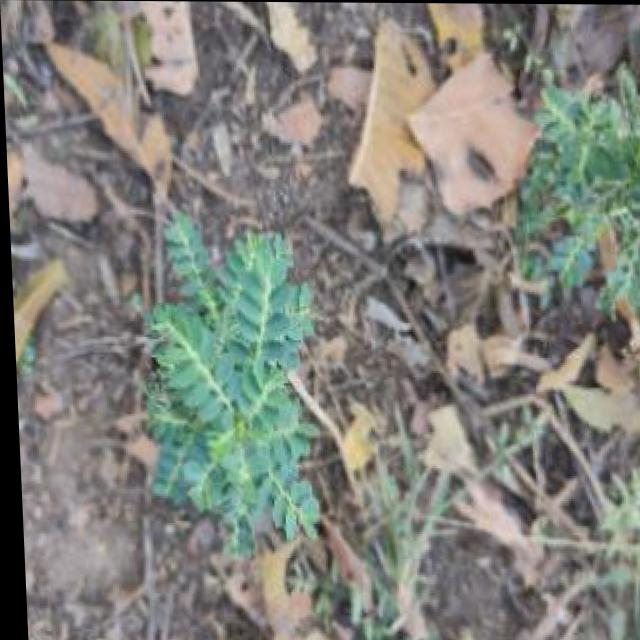weed: (506, 3, 640, 455), (150, 219, 293, 532)
